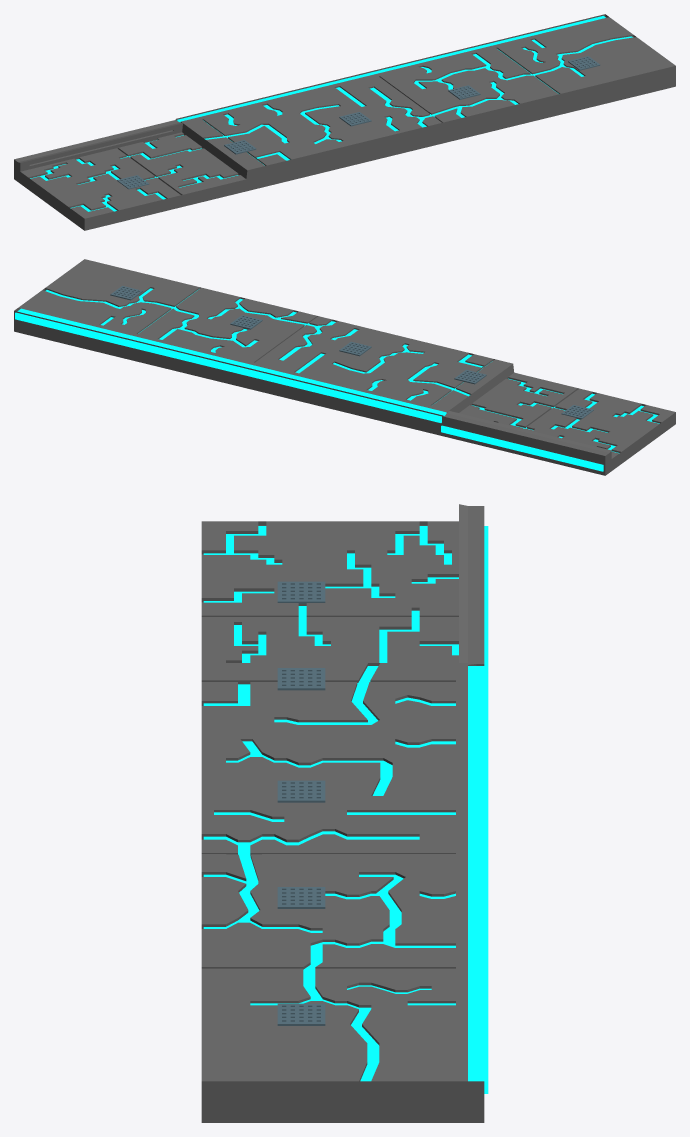
File: cenario_floor.fbx
The picture shows the model from 3 angles, top to bottom: view 1: azimuth 30°, elevation 25°; view 2: azimuth 150°, elevation 25°; view 3: azimuth 270°, elevation 25°; orthographic projection. The views are drawn at different scales.
Visible parts, largest first — view 1: Cube, Cube.005, Cube.008; view 2: Cube, Cube.005, Cube.008; view 3: Cube, Cube.005, Cube.008.
Boxes of the visible parts, bbox=[...] form: Cube: bbox=[14, 14, 675, 230]; Cube.005: bbox=[30, 16, 632, 211]; Cube.008: bbox=[117, 56, 600, 189]; Cube: bbox=[14, 259, 675, 475]; Cube.005: bbox=[15, 288, 659, 471]; Cube.008: bbox=[110, 286, 593, 419]; Cube: bbox=[201, 504, 484, 1122]; Cube.005: bbox=[203, 526, 488, 1093]; Cube.008: bbox=[277, 581, 325, 1025].
Size of the model in its own units: 5755 by 203 by 1207.
